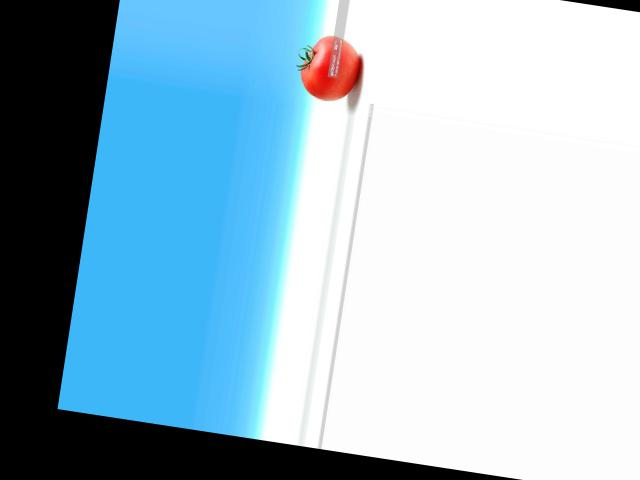tomato: (297, 31, 362, 103)
